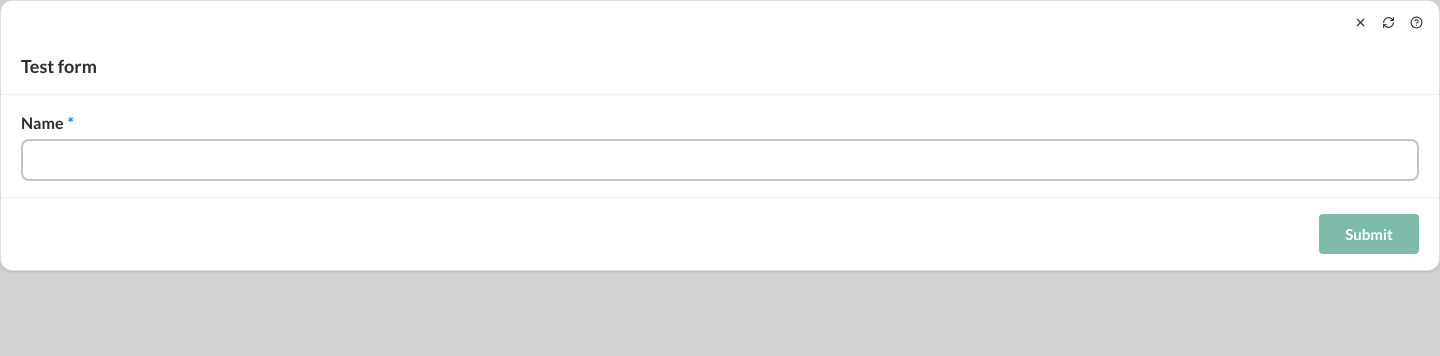
Test case: AskUserQuestionForm › action row (Cancel / Regenerate / Something else) › clicking Something else takes over the form body instead of firing immediately
Click the button named "I want something else".
click(1416, 22)  # box [1403, 9, 1429, 35]
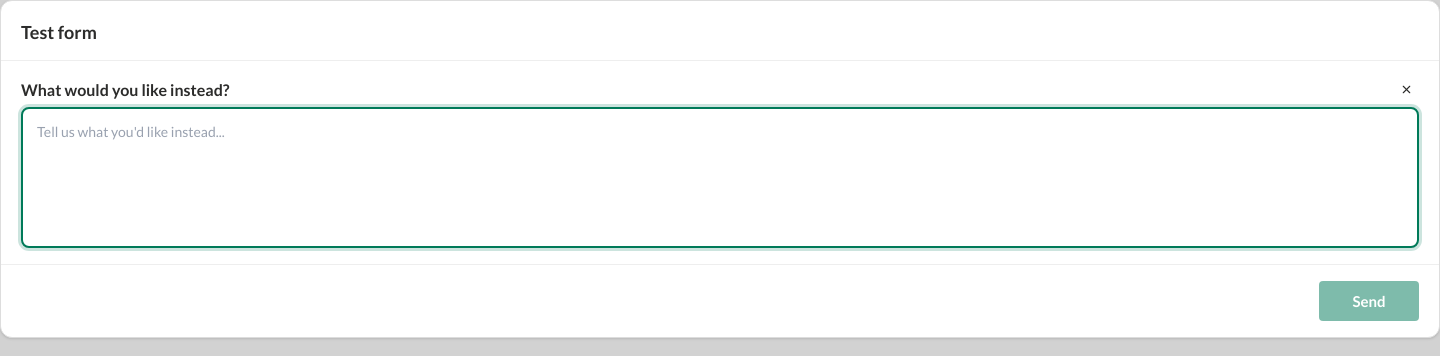
Expected: the text box with test id "form-action-other-input" is shown, [21, 106, 1419, 248]
Expected: the field is gone
